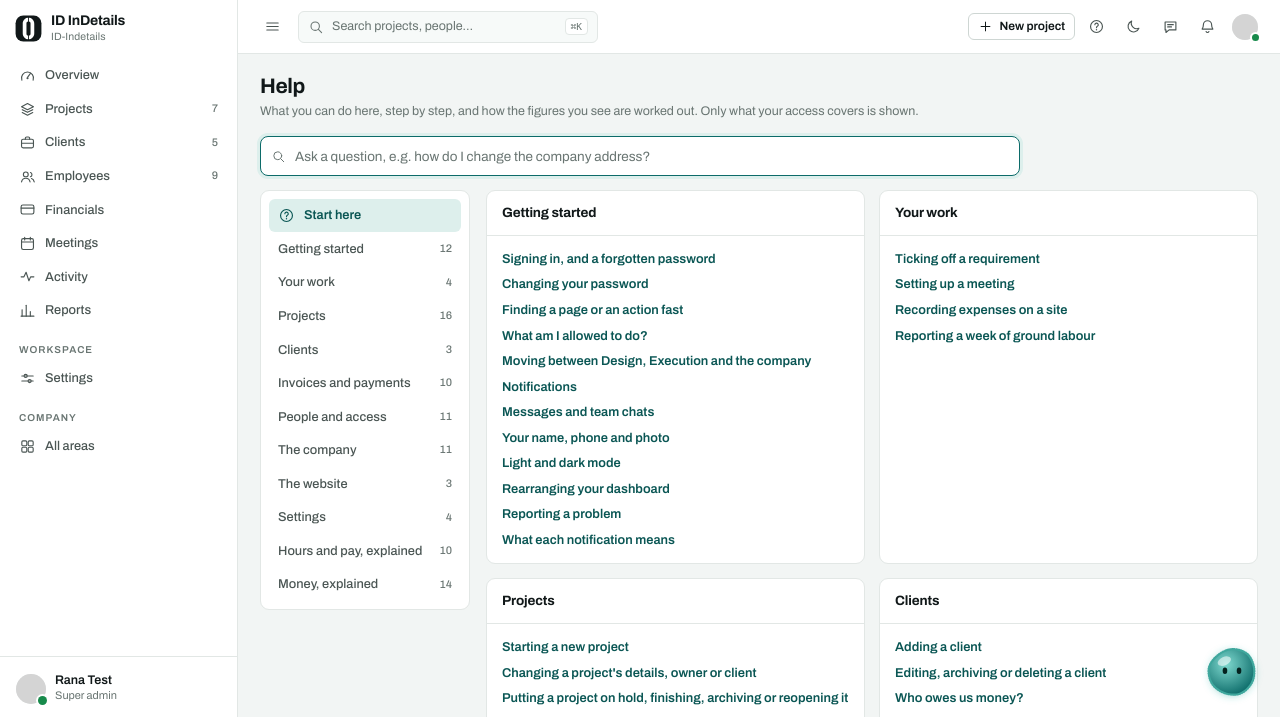
Test case: Proton › cancel a proposal, and show the API's reason when a confirmation is refused
expect the field named "Search Help" is shown: met, box [260, 136, 1020, 176]
Click the button named "Proton, ": (1232, 672) [1200, 640, 1264, 704]
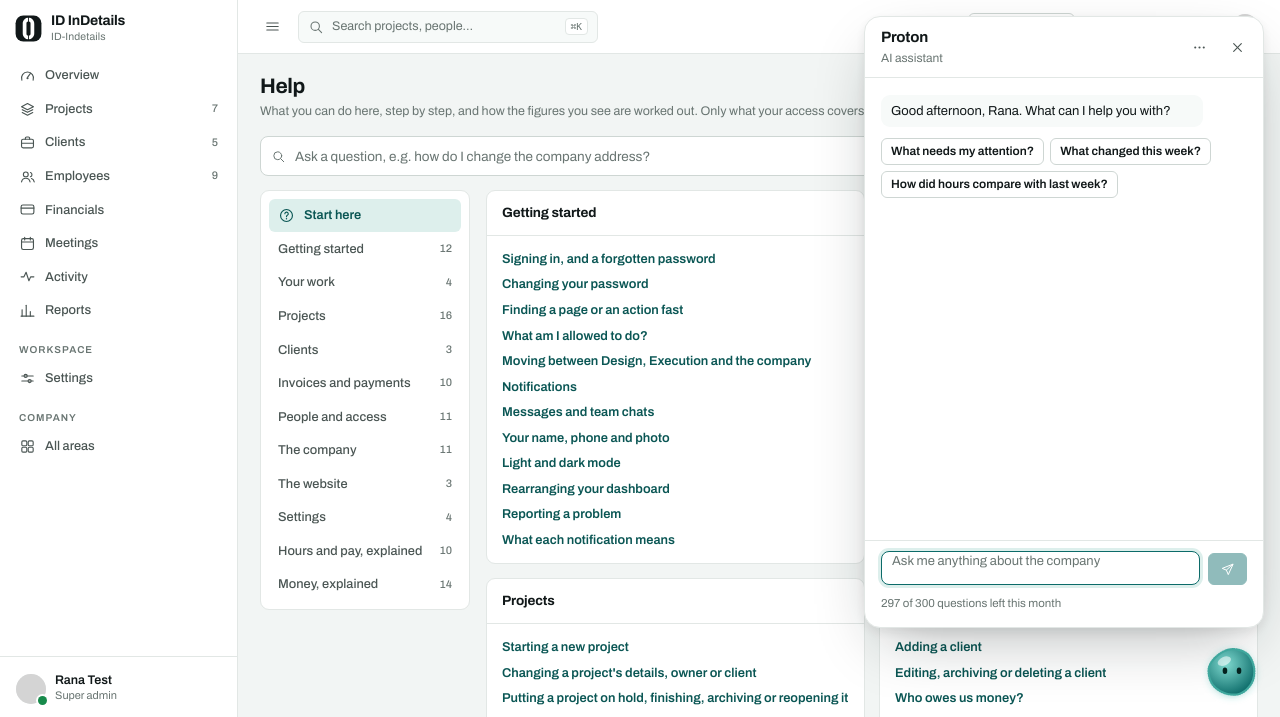
In the text box named "Ask Proton": (1040, 568) [881, 551, 1200, 585], type "Put Villa Mounir on hold"
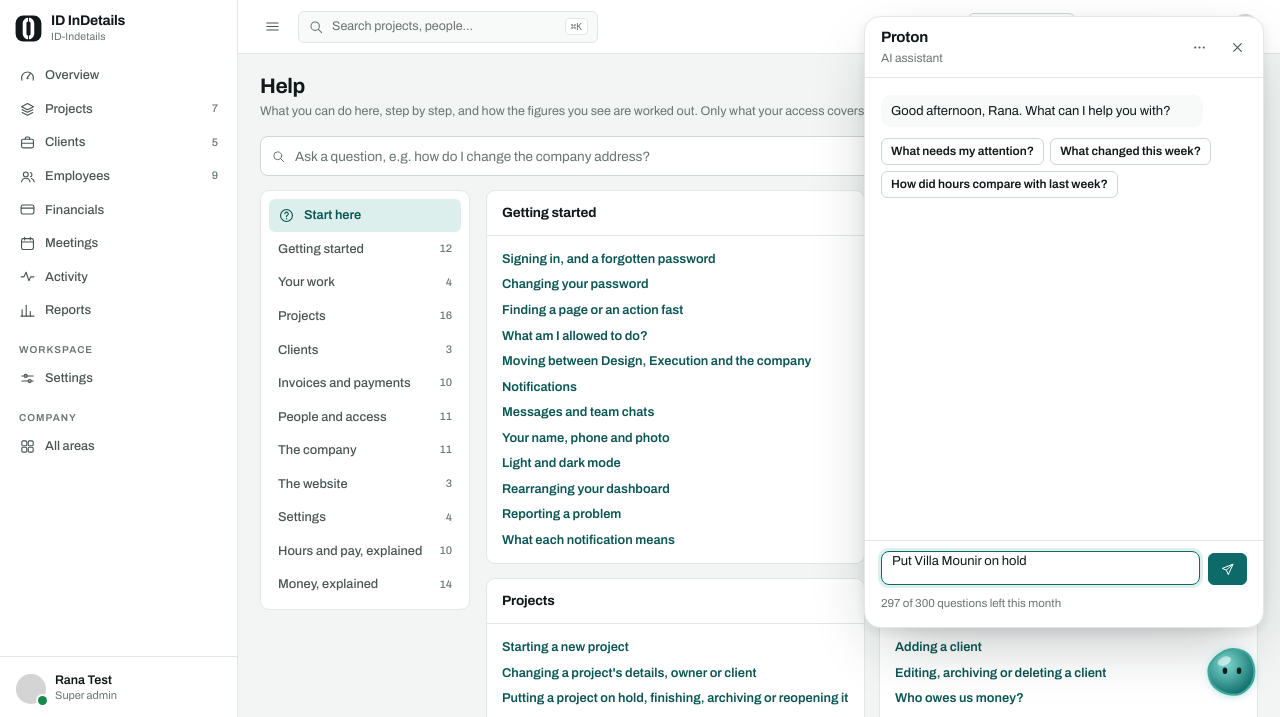
Click the button named "Send": (1228, 569) [1208, 553, 1247, 585]
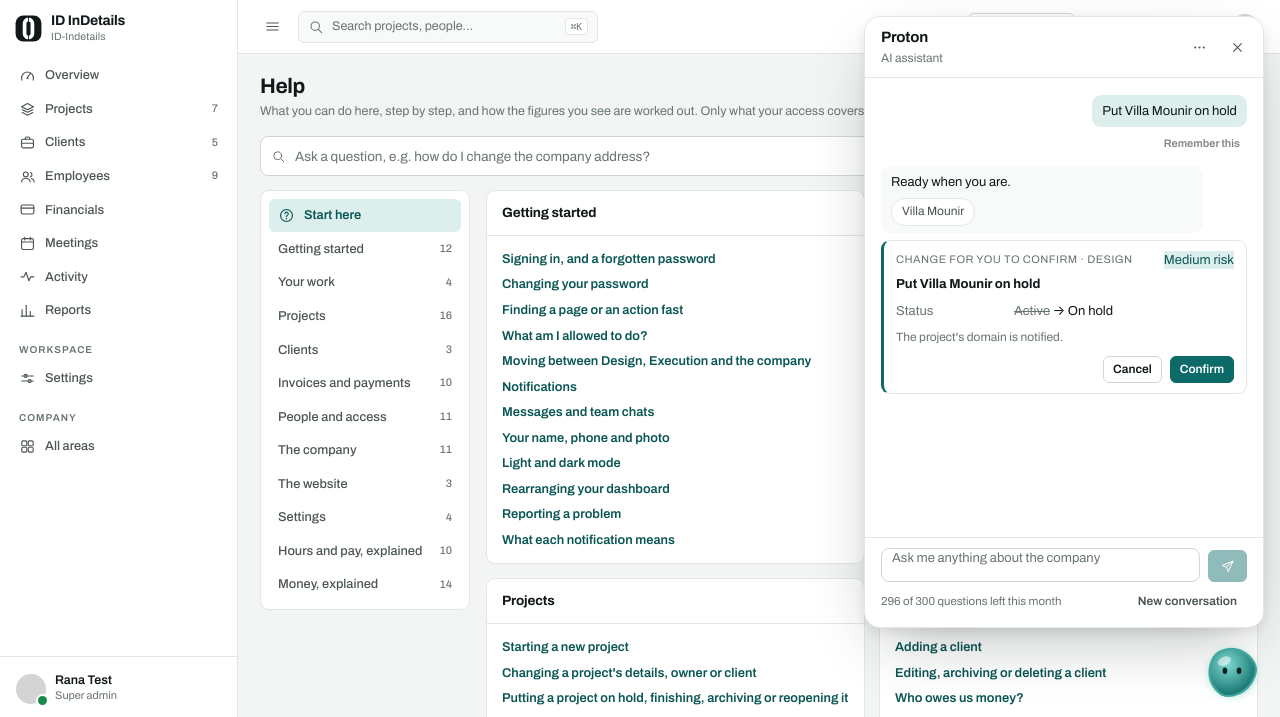
Click the button "Cancel": (1132, 370) [1103, 356, 1162, 383]
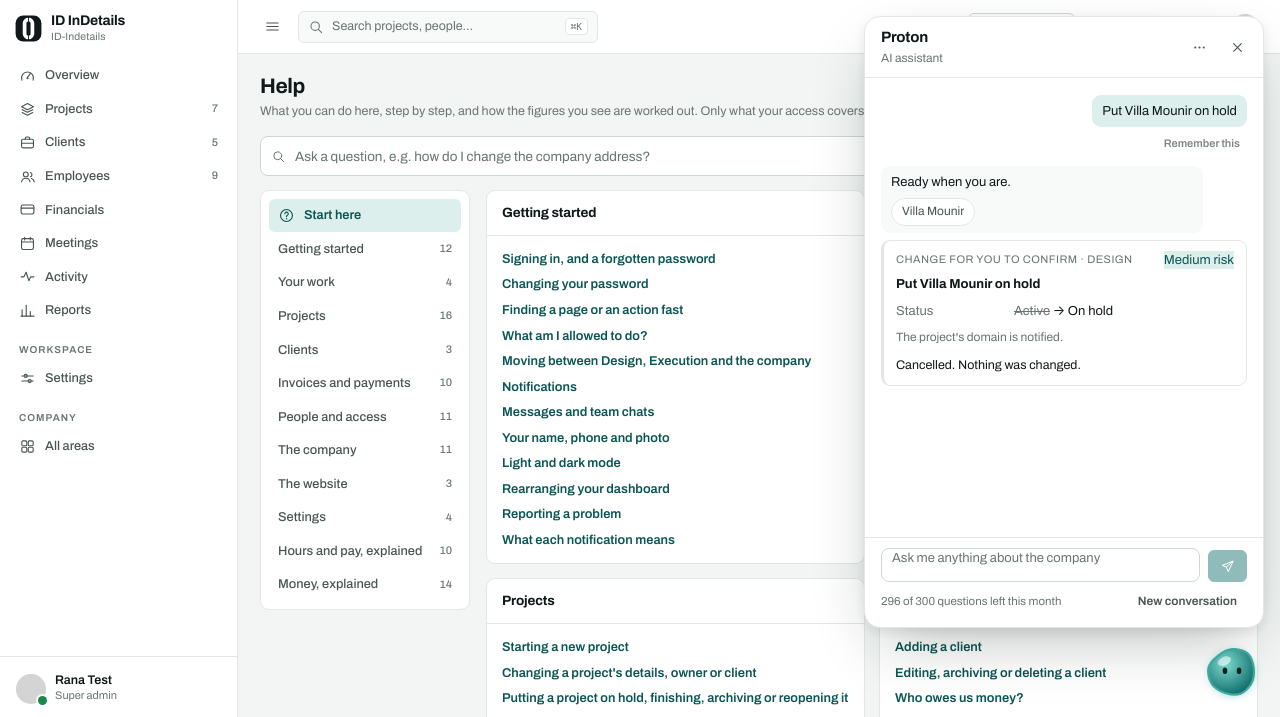
expect the text "Cancelled. Nothing was changed." is shown: met, box [896, 358, 1081, 372]
